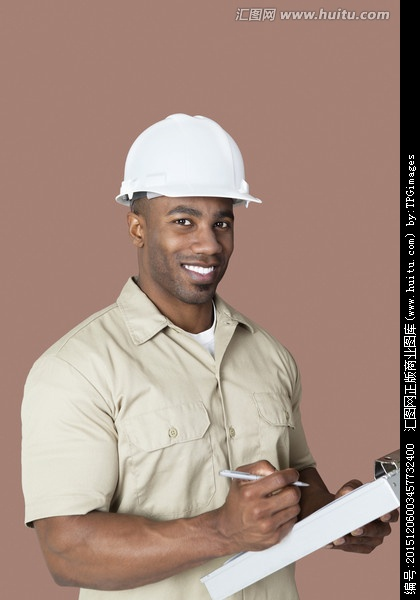white: (119, 117, 249, 303)
